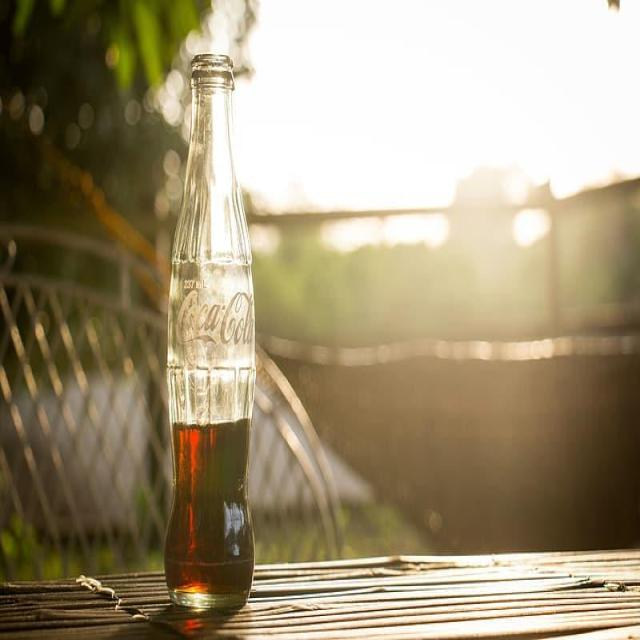coca-cola: (157, 51, 266, 614)
